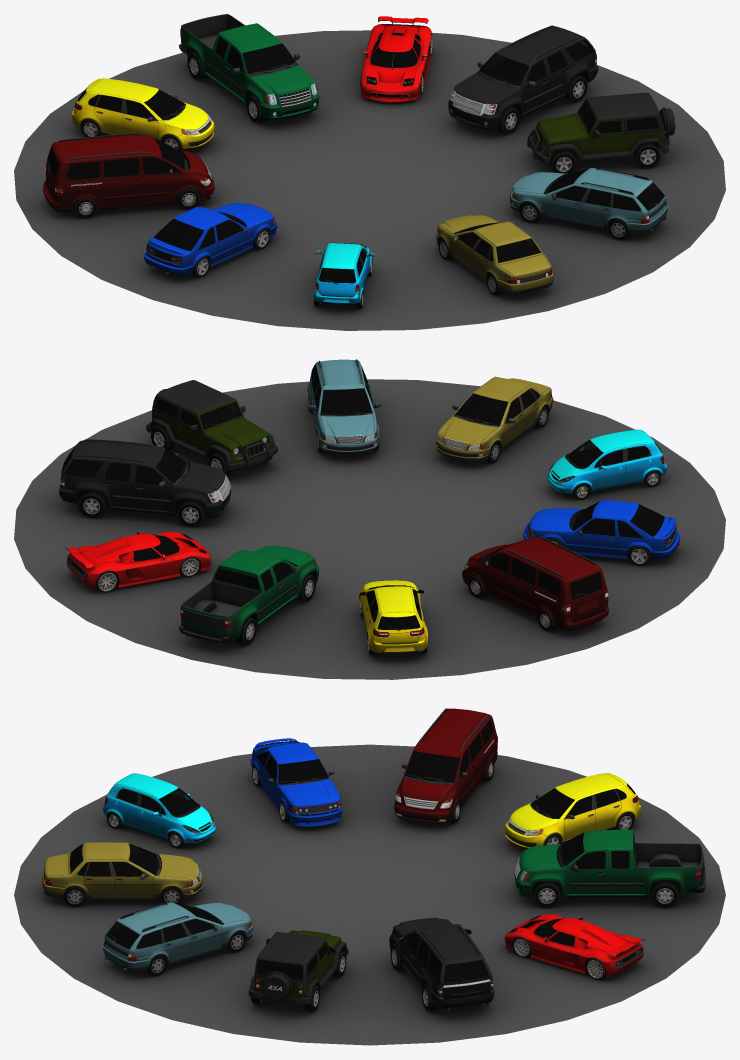
The model's file is generic_passenger_car_pack_traffic.glb.
3 views of the same model, one above another, from view 1: azimuth 30°, elevation 25°; view 2: azimuth 150°, elevation 25°; view 3: azimuth 270°, elevation 25° (orthographic).
Visible parts, largest first — view 1: Cylinder001, minivan body, SUV Body, Pickup Body, Wagon Body, Offroad Body, Hatchback Body, Coupe Body, Sedan Body, Sport body, Compact Body, Wheel_G001 (+1 smaller); view 2: Cylinder001, SUV Body, minivan body, Pickup Body, Offroad Body, Coupe Body, Sedan Body, Wagon Body, Sport body, Compact Body, Hatchback Body, Wheel_E003 (+1 smaller); view 3: Cylinder001, Pickup Body, minivan body, Sedan Body, Wagon Body, SUV Body, Hatchback Body, Coupe Body, Offroad Body, Sport body, Compact Body, Wheel_E001 (+1 smaller).
Part boxes in pixels (left/top/right/bottom): Cylinder001: left=14, top=30, right=725, bottom=330; minivan body: left=43, top=133, right=214, bottom=211; SUV Body: left=448, top=25, right=598, bottom=130; Pickup Body: left=178, top=14, right=319, bottom=120; Wagon Body: left=509, top=168, right=667, bottom=234; Offroad Body: left=527, top=92, right=675, bottom=163; Hatchback Body: left=72, top=78, right=214, bottom=149; Coupe Body: left=143, top=202, right=277, bottom=275; Sedan Body: left=436, top=215, right=553, bottom=295; Sport body: left=361, top=16, right=431, bottom=102; Compact Body: left=314, top=242, right=374, bottom=305; Wheel_G001: left=633, top=142, right=660, bottom=168; Cylinder001: left=14, top=379, right=725, bottom=679; SUV Body: left=59, top=439, right=230, bottom=518; minivan body: left=462, top=537, right=608, bottom=630; Pickup Body: left=179, top=545, right=319, bottom=644; Offroad Body: left=146, top=380, right=277, bottom=470; Coupe Body: left=523, top=500, right=679, bottom=559; Sedan Body: left=436, top=376, right=553, bottom=461; Wagon Body: left=307, top=359, right=381, bottom=453; Sport body: left=65, top=531, right=210, bottom=589; Compact Body: left=547, top=429, right=666, bottom=494; Hatchback Body: left=359, top=580, right=427, bottom=655; Wheel_E003: left=78, top=490, right=106, bottom=518; Cylinder001: left=14, top=744, right=725, bottom=1045; Pickup Body: left=514, top=829, right=705, bottom=898; minivan body: left=394, top=708, right=497, bottom=823; Sedan Body: left=42, top=842, right=203, bottom=900; Wagon Body: left=103, top=902, right=253, bottom=971; SUV Body: left=389, top=917, right=494, bottom=1011; Hatchback Body: left=504, top=773, right=641, bottom=848; Coupe Body: left=250, top=738, right=342, bottom=826; Offroad Body: left=248, top=930, right=348, bottom=1005; Sport body: left=504, top=914, right=644, bottom=977; Compact Body: left=102, top=773, right=215, bottom=844; Wheel_E001: left=651, top=880, right=678, bottom=908.
Bounding box in the file's own units: 19.27 × 1.76 × 19.27.
41 materials, 31 textured.
